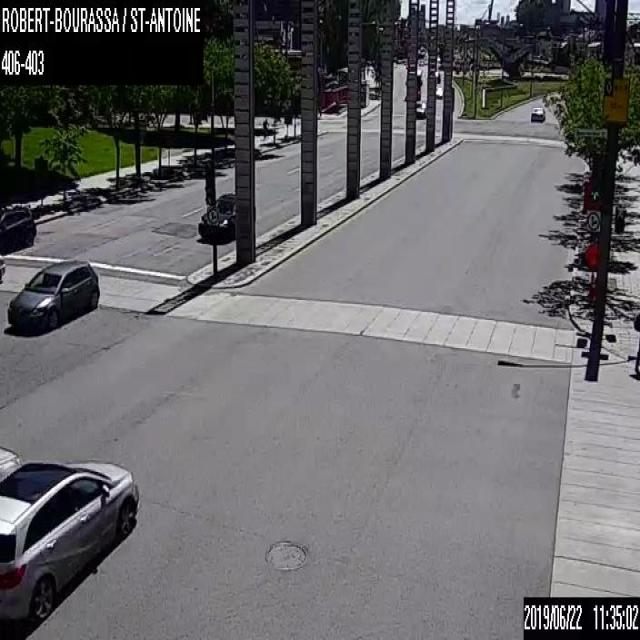bus: (404, 67, 422, 98)
construction: (585, 241, 599, 302)
pedestrian: (261, 116, 267, 139)
vehicle: (0, 459, 139, 629), (6, 256, 99, 332), (198, 192, 255, 237), (0, 206, 36, 250), (0, 444, 22, 481), (530, 105, 545, 122), (415, 100, 425, 118), (426, 71, 440, 83), (0, 254, 5, 280), (435, 86, 442, 98)
